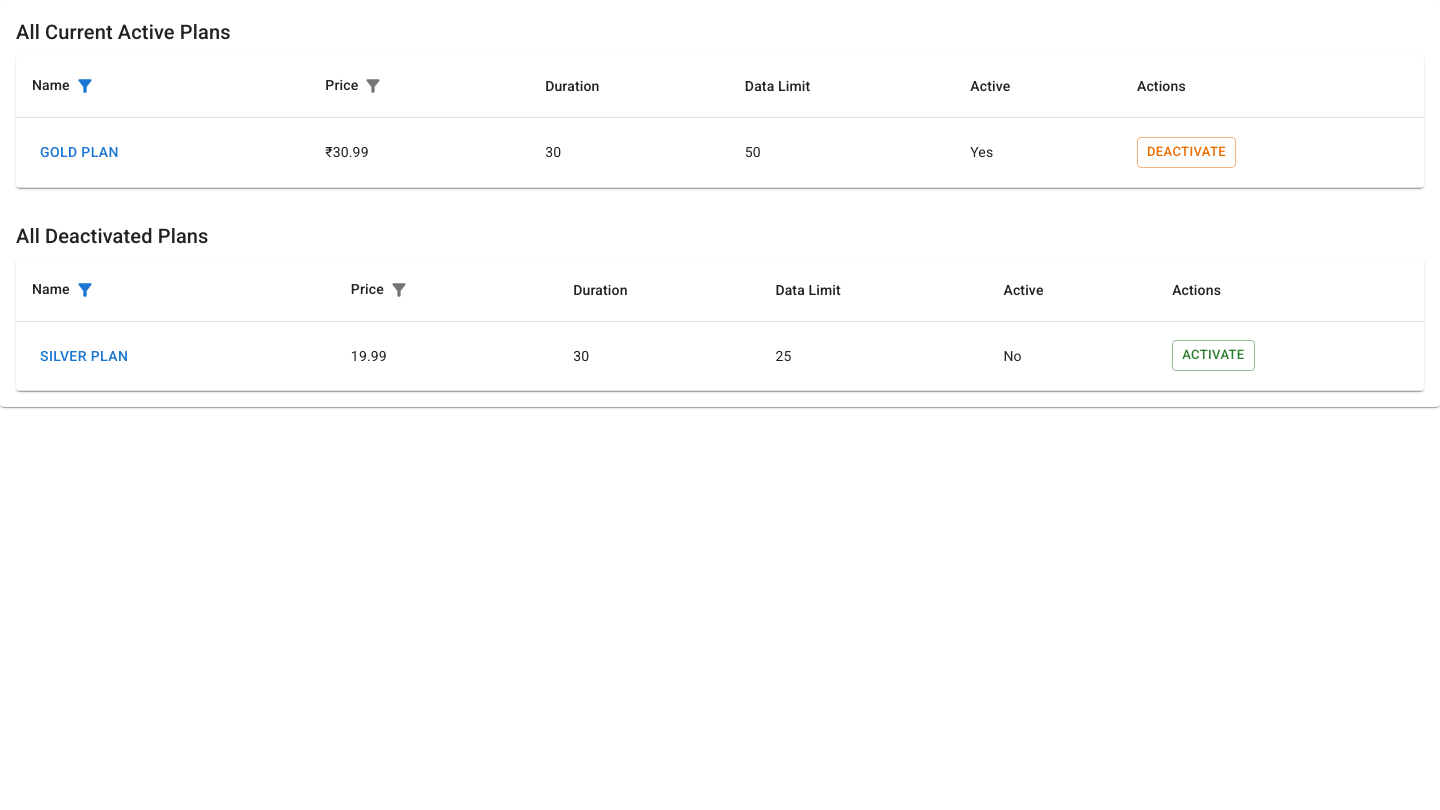
CurrentPlans Component › opens and displays plan details when clicking a plan name
Click the button "Gold Plan".
click(79, 152)  # box [32,134,127,170]
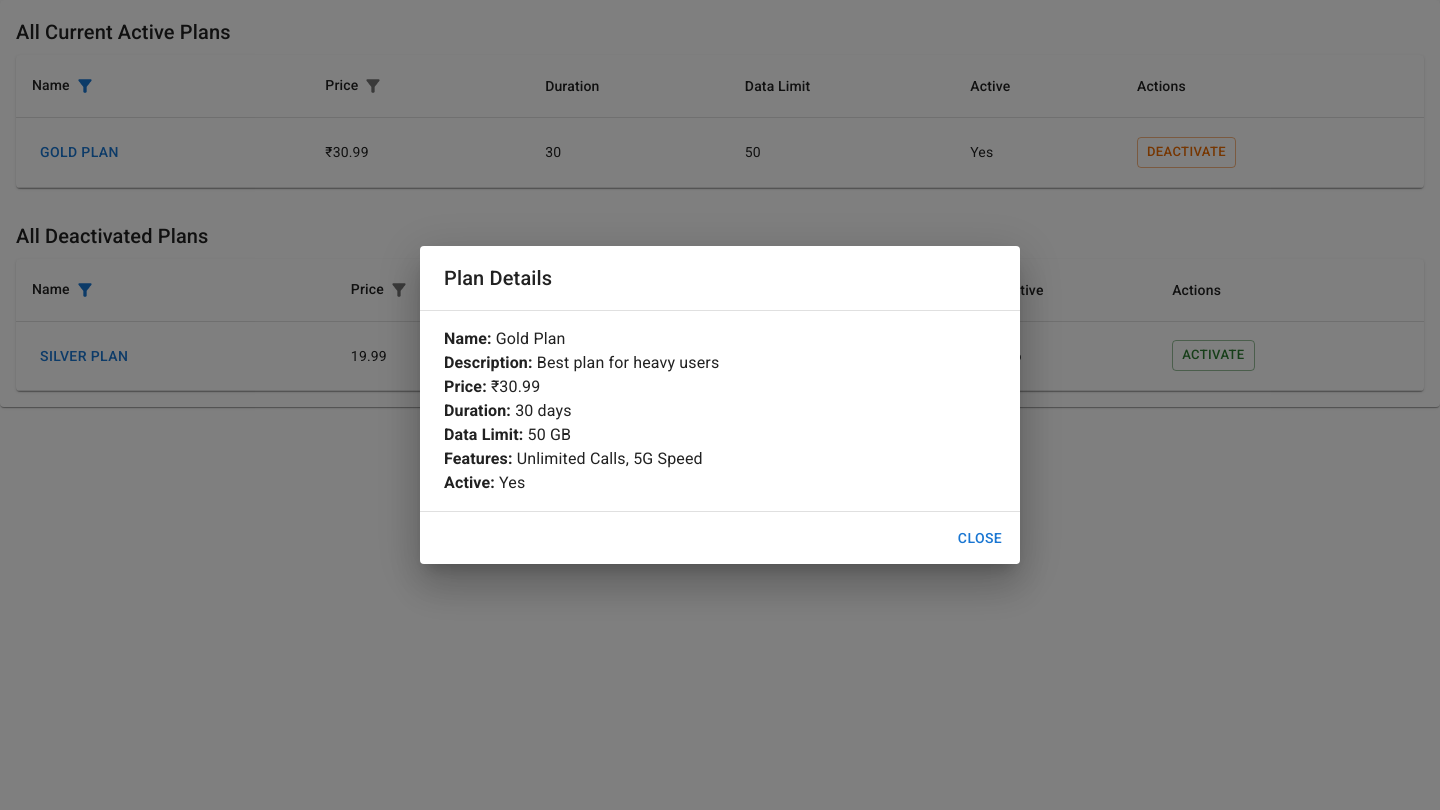
Check: the heading "Plan Details" is shown, box [444,266,552,290]
Check: the text "Description: Best plan for heavy users" is shown, box [444,353,719,372]
